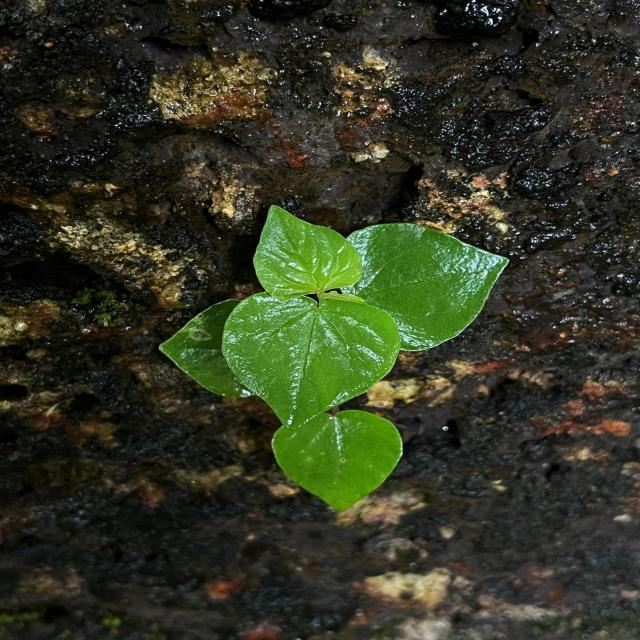Peperomia pellucida: (218, 289, 402, 433), (338, 220, 513, 355), (250, 202, 364, 304)
